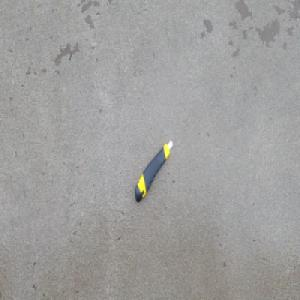Cutter: (134, 138, 174, 204)
